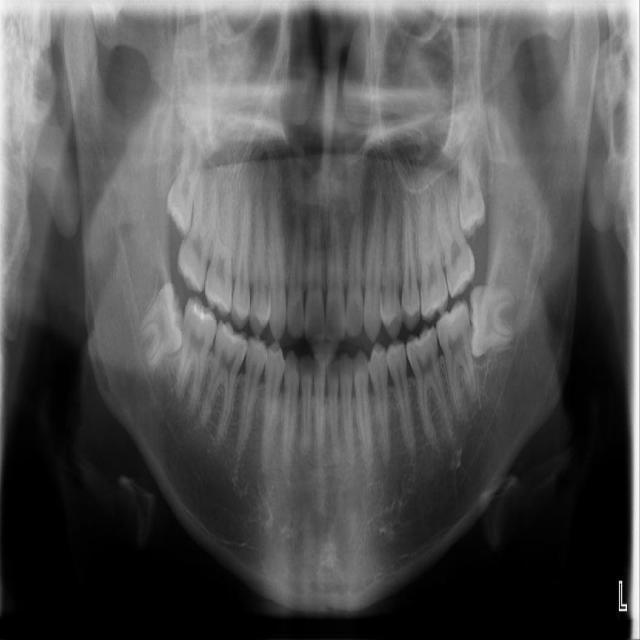Filling: (192, 304, 214, 320)
impacted tooth: (134, 283, 184, 364), (471, 287, 521, 358)
